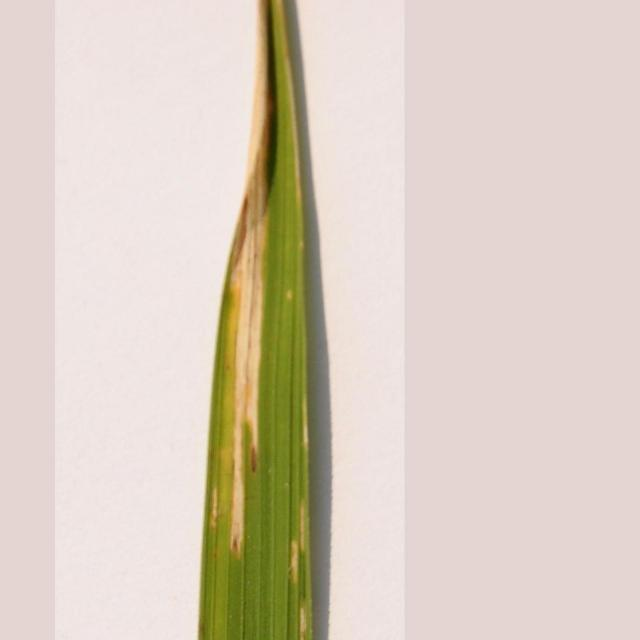leaf blight: (208, 1, 310, 623)
